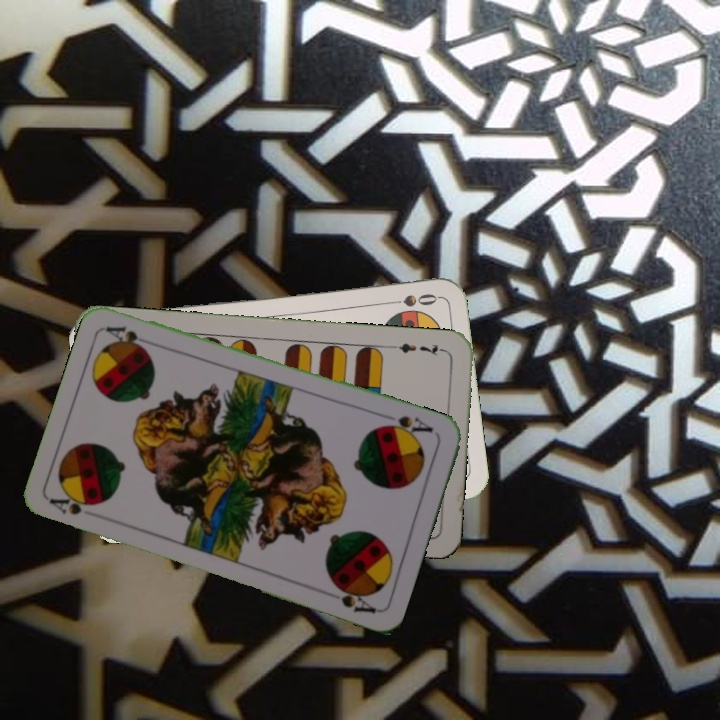E7: (389, 339, 448, 359)
SA: (378, 411, 435, 441), (46, 489, 101, 518)
SO: (381, 290, 440, 310)
